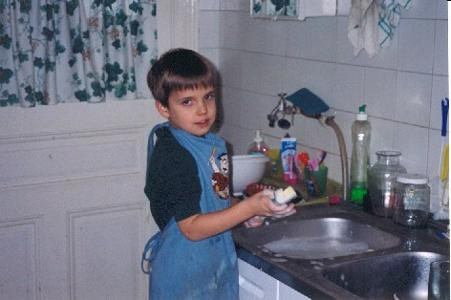person: (141, 49, 296, 300)
